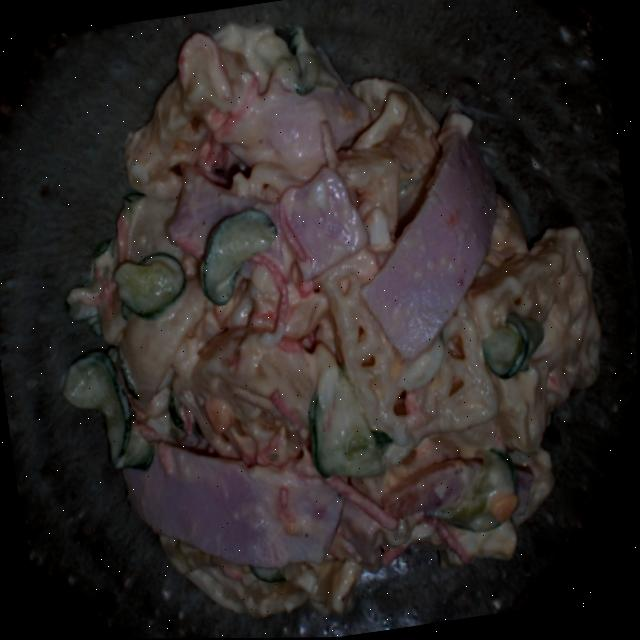蔬菜料理: (0, 0, 564, 640)
